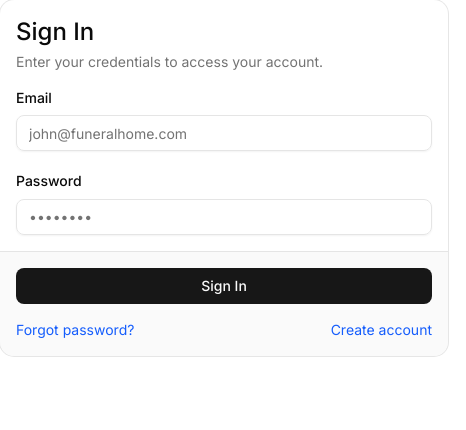
LoginForm › should show validation errors for empty fields
Click the button "Sign In". click: (224, 286)
box: [16,268,432,304]
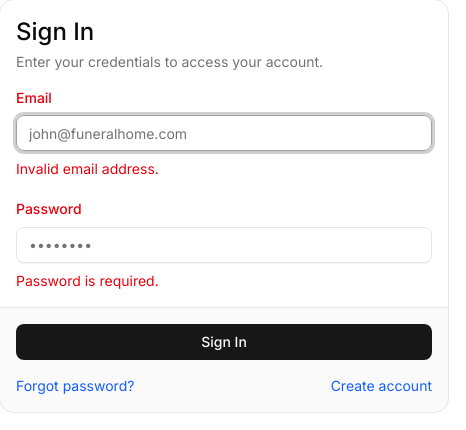
Expected: the text "Invalid email address." is shown, [16,160,159,177]
Expected: the text "Password is required." is shown, [16,272,159,288]
